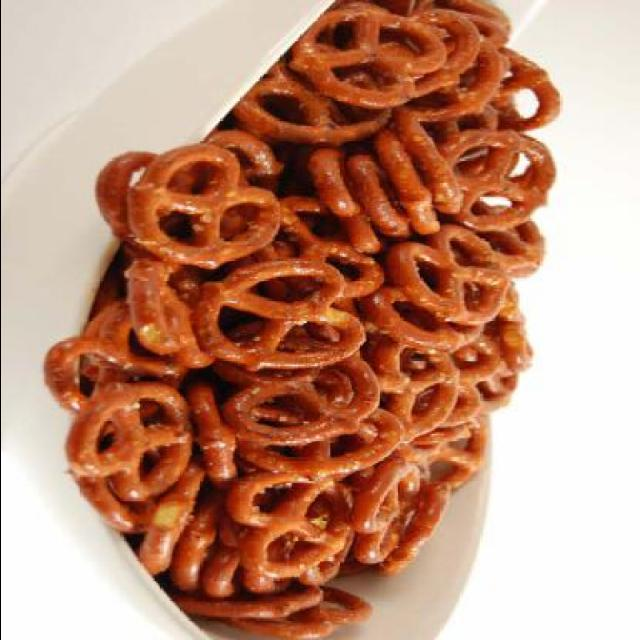Salatini packaged: (40, 6, 562, 640)
